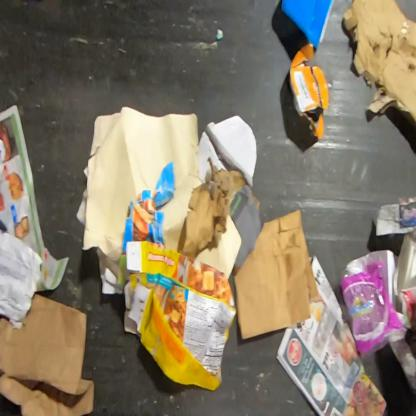cardboard: (123, 241, 237, 392), (232, 208, 323, 340), (0, 292, 96, 415), (341, 0, 416, 131), (180, 159, 262, 268), (346, 232, 415, 309), (122, 162, 176, 254), (199, 114, 258, 189), (288, 42, 330, 141), (280, 0, 336, 51)
soft_plastic: (338, 256, 413, 361)
